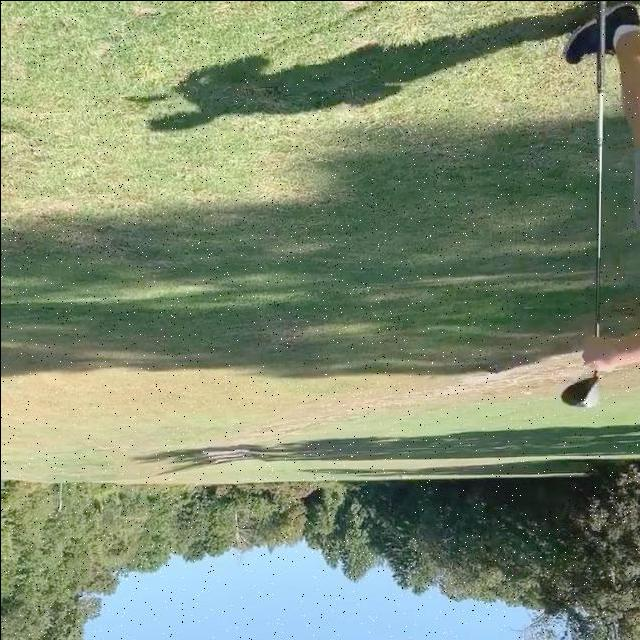golf club-handle: (553, 0, 609, 412)
golf club-head: (558, 376, 602, 406)
